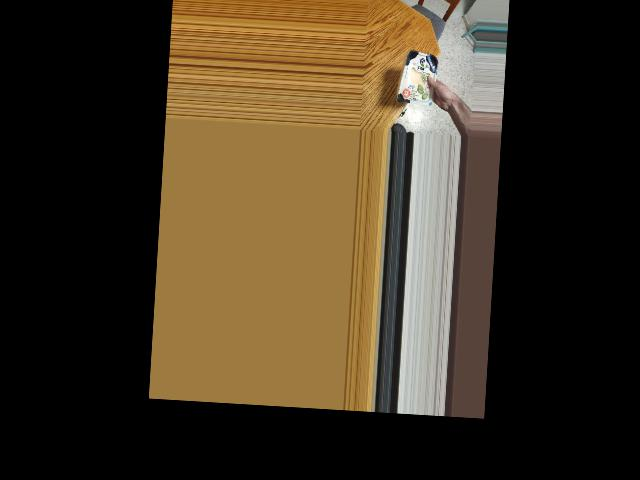cheese: (403, 50, 436, 101)
